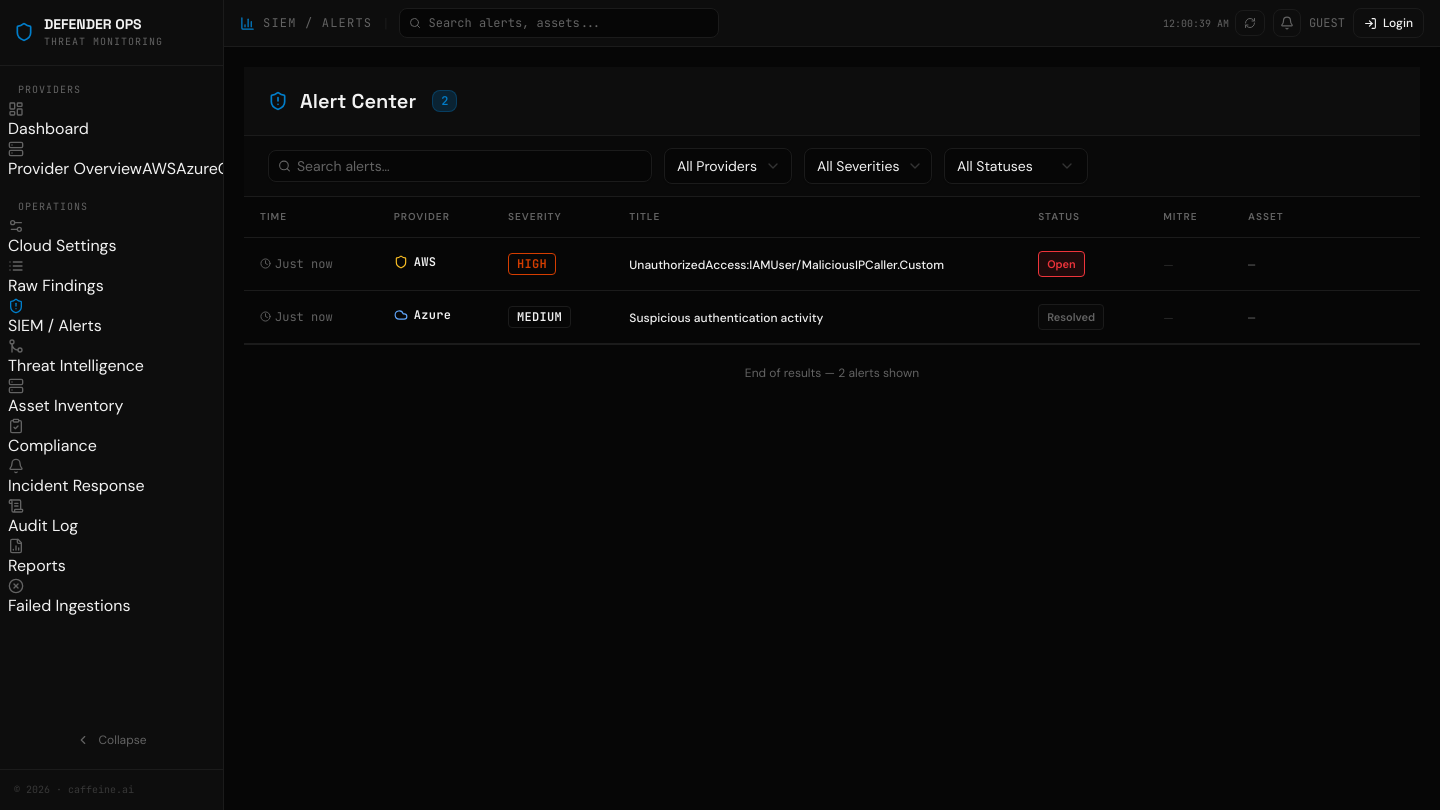
Test: AlertsPage filters and search (characterize) › filters the visible rows by the search query
Check: the text "UnauthorizedAccess:IAMUser/MaliciousIPCaller.Custom" is shown, box [629, 257, 944, 273]
Check: the text "Suspicious authentication activity" is shown, box [629, 310, 823, 326]
Type "Suspicious" into the field with test id "alerts.search_input" at (460, 166), box [268, 150, 652, 182]
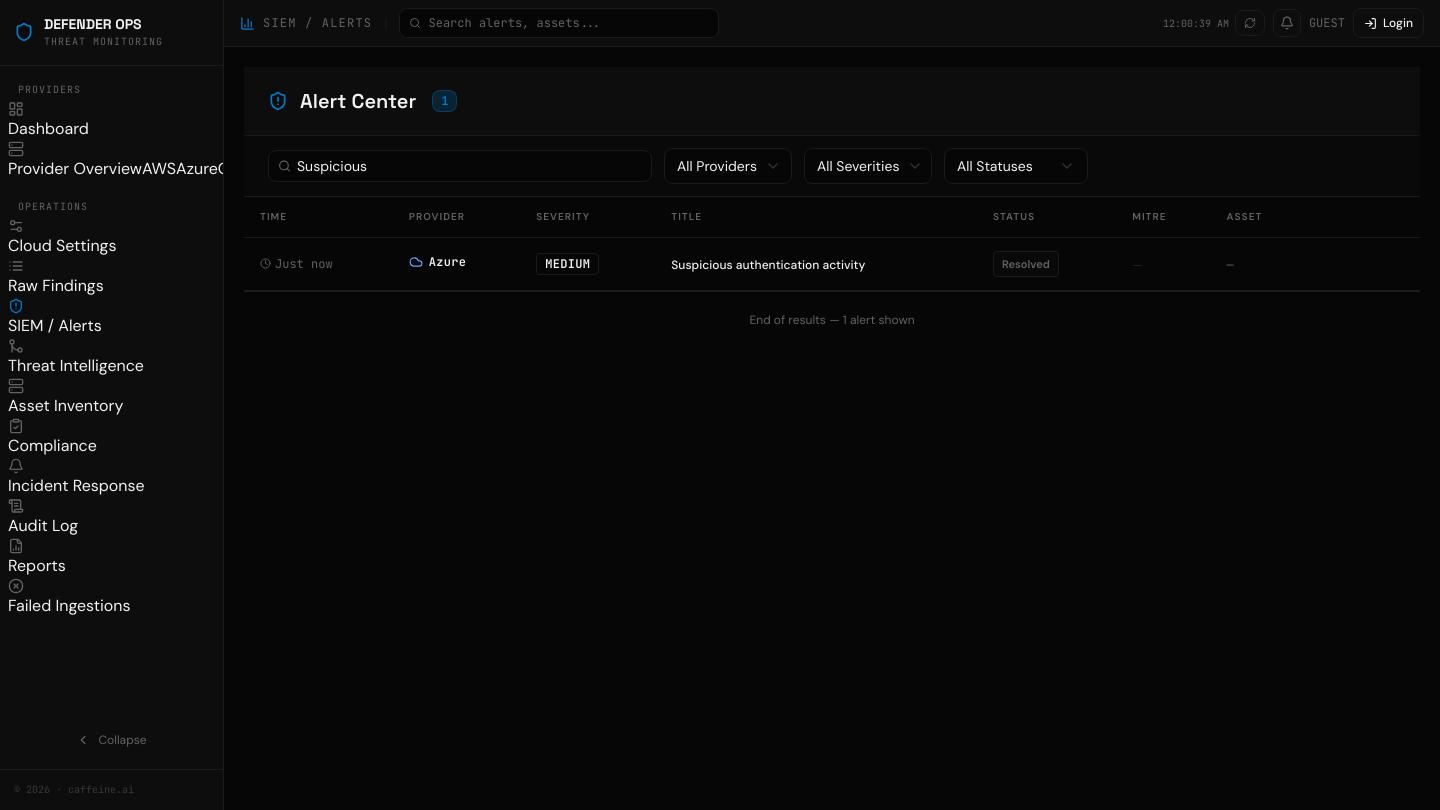
Check: the text "Suspicious authentication activity" is shown, box [671, 257, 865, 273]
Check: the text "UnauthorizedAccess:IAMUser/MaliciousIPCaller.Custom" is gone
